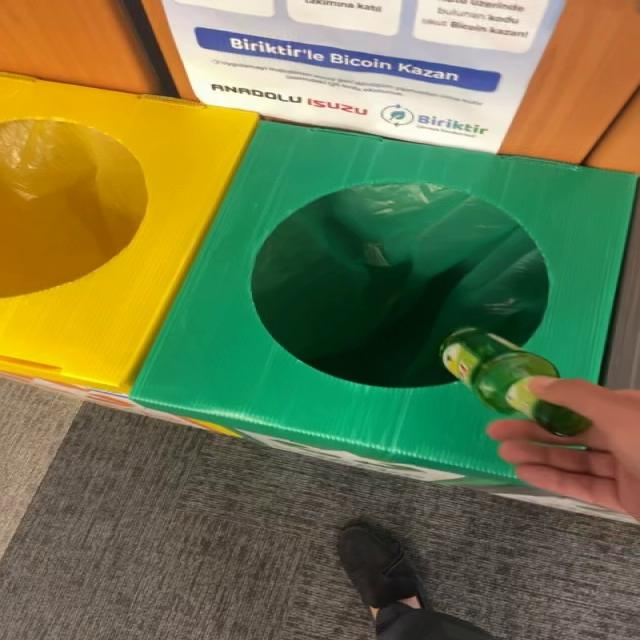glass: (441, 328, 592, 436)
